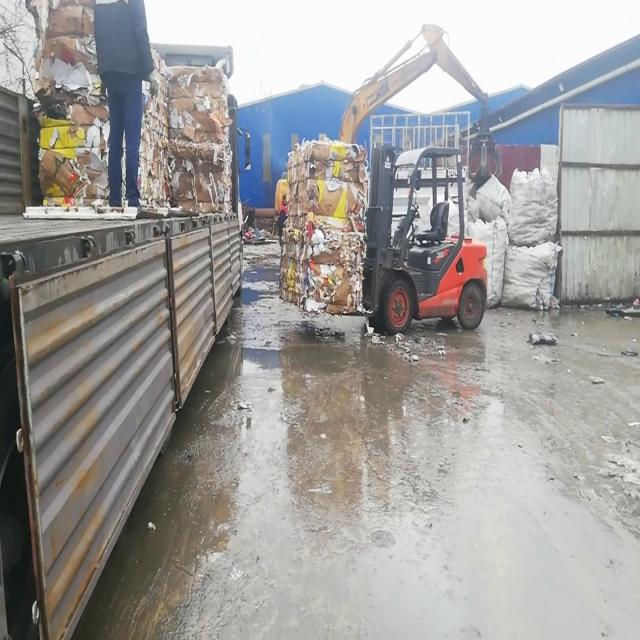Chariot elevateur: (357, 134, 490, 344)
